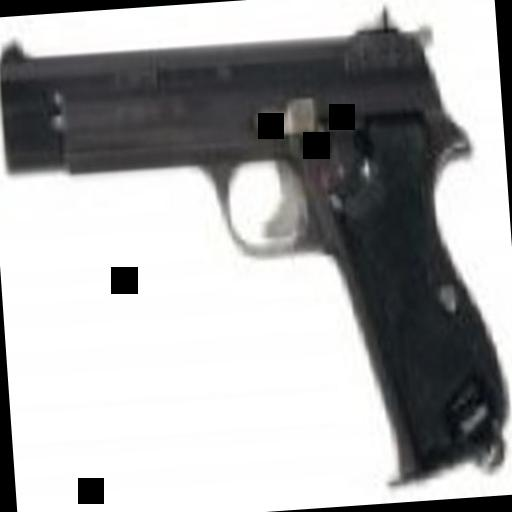Handgun: (0, 11, 511, 509)
